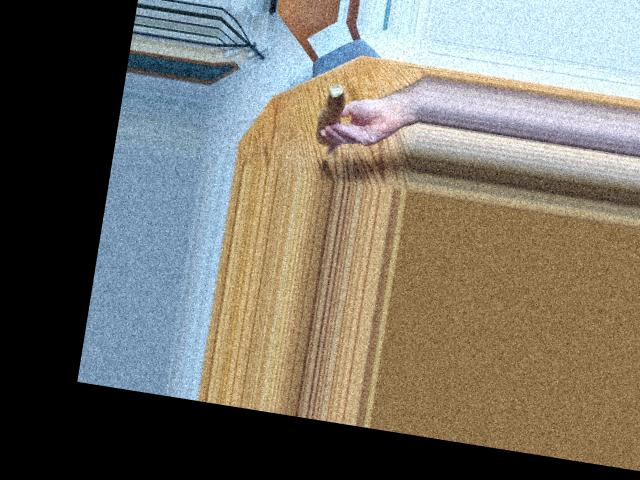sweet_potato: (312, 84, 353, 141)
